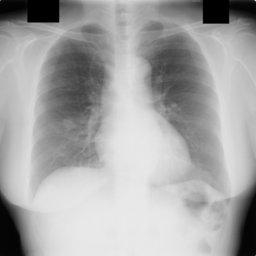left lobe: (139, 21, 224, 190)
right lobe: (32, 25, 111, 190)
